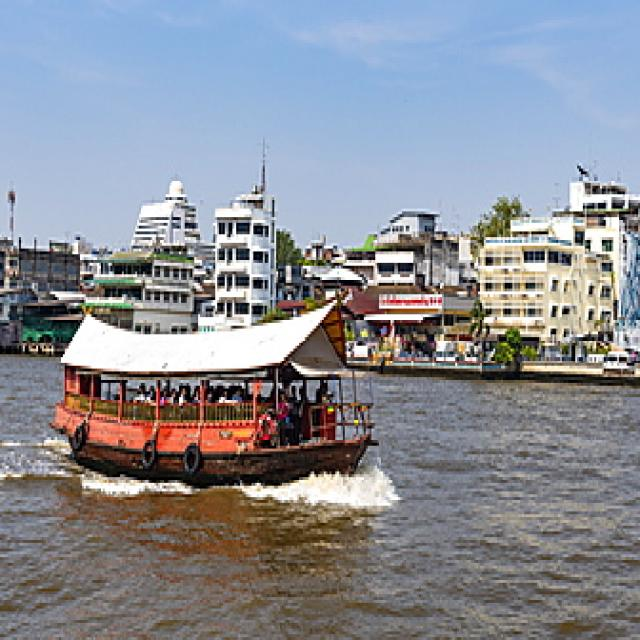houseboat: (55, 287, 366, 489)
